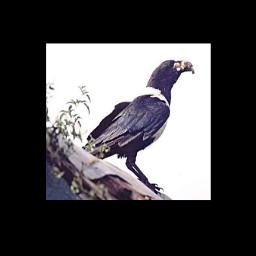Crow: (78, 58, 195, 195)
